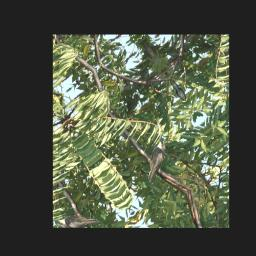Cuckoo: (132, 137, 179, 185)
